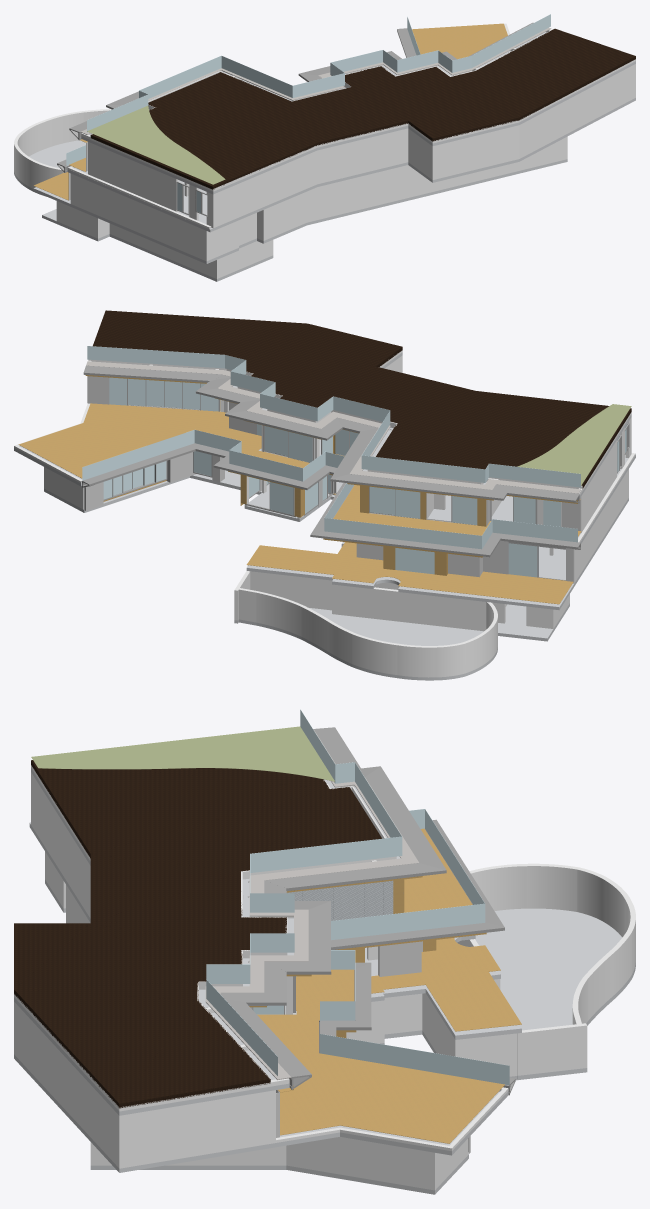
The picture shows the model from 3 angles, top to bottom: view 1: azimuth 30°, elevation 25°; view 2: azimuth 150°, elevation 25°; view 3: azimuth 270°, elevation 25°; orthographic projection. The views are drawn at different scales.
Parts seen in each view (by area): view 1: Перекрытие [5377863], Базовая стена [1303326], Базовая стена [1299704], Базовая стена [1340738], Базовая стена [1339755], Перекрытие [5378901], Базовая стена [1339886], Базовая стена [1340426], Базовая стена [1363320], Перекрытие [5354317], Перекрытие [1366628], Перекрытие [1372569] (+25 smaller); view 2: Перекрытие [5377863], Перекрытие [5354317], Перекрытие [2173154], Перекрытие [1396571], Базовая стена [1332821], Перекрытие [1419072], Перекрытие [5274459], Перекрытие [5378901], ASS-77_Тип_5 [2259795], Базовая стена [2231582], Базовая стена [1418942], Базовая стена [2231579] (+45 smaller); view 3: Перекрытие [5377863], Перекрытие [5354317], Перекрытие [1419072], Перекрытие [5378901], Базовая стена [1341743], Перекрытие [2173154], Базовая стена [1340738], Базовая стена [1405022], Перекрытие [5274459], Базовая стена [2231593], Перекрытие [1396571], Перекрытие [1366628] (+36 smaller).
Part boxes in pixels (box(x1,y1,x2,y2)): Перекрытие [5377863]: box(91, 28, 635, 189); Базовая стена [1303326]: box(307, 136, 567, 222); Базовая стена [1299704]: box(72, 174, 208, 261); Базовая стена [1340738]: box(524, 64, 635, 155); Базовая стена [1339755]: box(215, 151, 317, 227); Перекрытие [5378901]: box(87, 105, 225, 184); Базовая стена [1339886]: box(317, 128, 408, 184); Базовая стена [1340426]: box(435, 122, 524, 179); Базовая стена [1363320]: box(90, 142, 178, 211); Перекрытие [5354317]: box(69, 23, 507, 171); Перекрытие [1366628]: box(67, 98, 635, 232); Перекрытие [1372569]: box(81, 32, 635, 194); Перекрытие [5377863]: box(93, 310, 631, 488); Перекрытие [5354317]: box(18, 403, 581, 536); Перекрытие [2173154]: box(246, 493, 573, 604); Перекрытие [1396571]: box(44, 470, 628, 610); Базовая стена [1332821]: box(335, 585, 492, 631); Перекрытие [1419072]: box(234, 607, 497, 680); Перекрытие [5274459]: box(86, 361, 580, 493); Перекрытие [5378901]: box(518, 404, 631, 485); ASS-77_Тип_5 [2259795]: box(109, 377, 219, 411); Базовая стена [2231582]: box(324, 518, 481, 549); Базовая стена [1418942]: box(250, 571, 331, 610); Базовая стена [2231579]: box(87, 346, 224, 368); Перекрытие [5377863]: box(14, 760, 381, 1108); Перекрытие [5354317]: box(257, 828, 504, 1143); Перекрытие [1419072]: box(475, 908, 635, 1080); Перекрытие [5378901]: box(31, 726, 334, 781); Базовая стена [1341743]: box(124, 1090, 275, 1167); Перекрытие [2173154]: box(371, 938, 521, 1031); Базовая стена [1340738]: box(18, 1007, 123, 1168); Базовая стена [1405022]: box(286, 1137, 436, 1190); Перекрытие [5274459]: box(205, 730, 418, 1080); Базовая стена [2231593]: box(320, 1034, 509, 1085); Перекрытие [1396571]: box(45, 879, 521, 1194); Перекрытие [1366628]: box(14, 822, 508, 1172).
Bounding box in the file's own units: 57.31 × 13.29 × 38.93.
